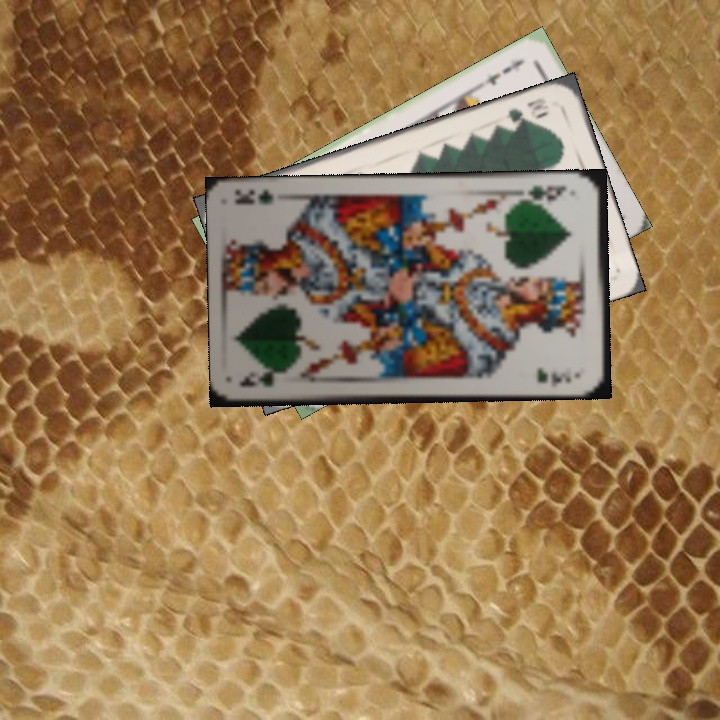E7: (476, 54, 527, 89)
G10: (501, 93, 551, 127)
GK: (235, 369, 291, 390), (521, 182, 570, 205)
